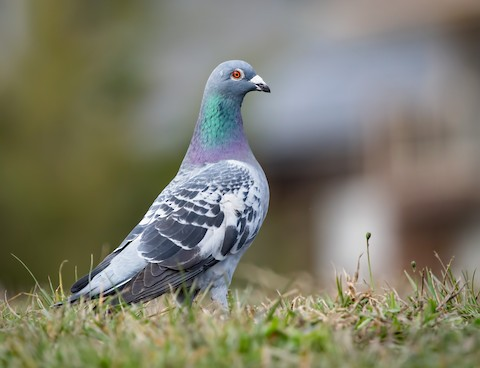pigeon: (47, 55, 275, 324)
